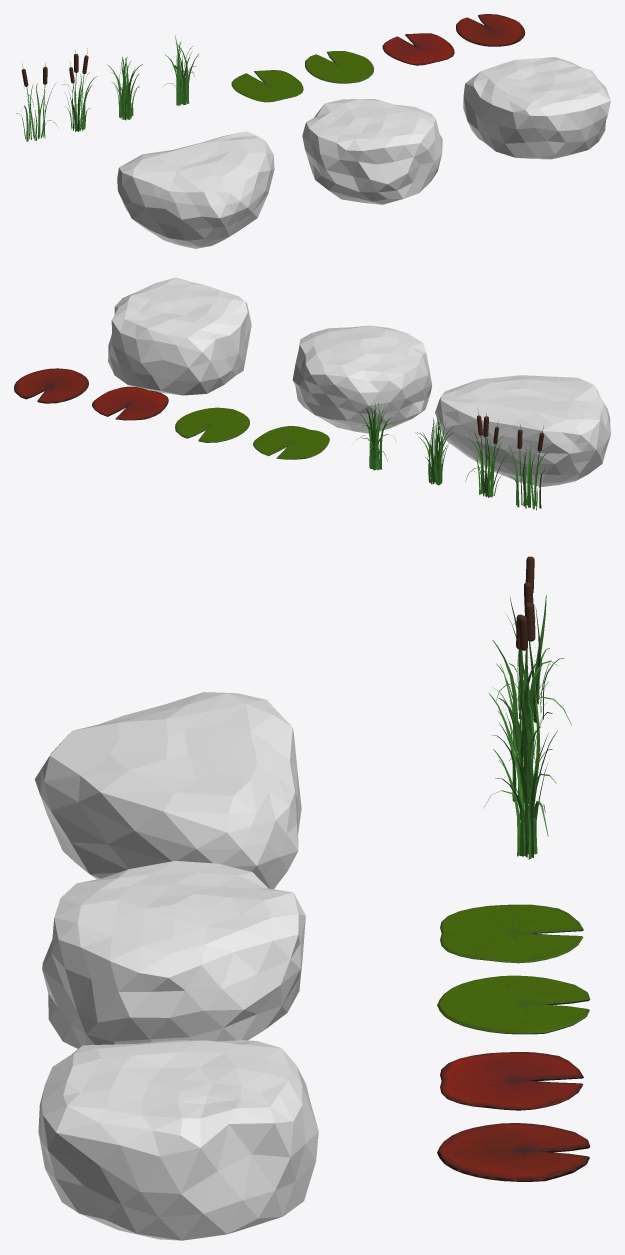
Rendered from PondEnvironment.glb.
The picture shows the model from 3 angles, top to bottom: view 1: azimuth 30°, elevation 25°; view 2: azimuth 150°, elevation 25°; view 3: azimuth 270°, elevation 25°; orthographic projection. The views are drawn at different scales.
Parts seen in each view (by area): view 1: Rock_1, Rock_3, Rock_2, LilyPad_2, LilyPad_2.001, LilyPad_1, LilyPad_1.001; view 2: Rock_1, Rock_3, Rock_2, LilyPad_2.001, LilyPad_2, LilyPad_1.001, LilyPad_1; view 3: Rock_3, Rock_2, Rock_1, LilyPad_2, LilyPad_2.001, LilyPad_1, LilyPad_1.001.
Boxes of the visible parts, bbox=[...] form: Rock_1: bbox=[117, 131, 274, 248]; Rock_3: bbox=[463, 57, 610, 159]; Rock_2: bbox=[302, 99, 442, 204]; LilyPad_2: bbox=[305, 51, 373, 83]; LilyPad_2.001: bbox=[456, 14, 525, 46]; LilyPad_1: bbox=[231, 70, 303, 102]; LilyPad_1.001: bbox=[382, 33, 454, 65]; Rock_1: bbox=[435, 375, 610, 486]; Rock_3: bbox=[108, 277, 251, 395]; Rock_2: bbox=[292, 325, 431, 433]; LilyPad_2.001: bbox=[14, 368, 88, 403]; LilyPad_2: bbox=[175, 407, 249, 442]; LilyPad_1.001: bbox=[92, 386, 168, 420]; LilyPad_1: bbox=[253, 426, 329, 459]; Rock_3: bbox=[38, 1040, 318, 1240]; Rock_2: bbox=[42, 861, 305, 1048]; Rock_1: bbox=[34, 692, 301, 889]; LilyPad_2: bbox=[437, 975, 590, 1034]; LilyPad_2.001: bbox=[437, 1123, 590, 1181]; LilyPad_1: bbox=[440, 904, 583, 963]; LilyPad_1.001: bbox=[440, 1052, 583, 1110].
Size of the model in its own units: 36.21 by 9.29 by 17.43.
9 materials, 4 textured.
